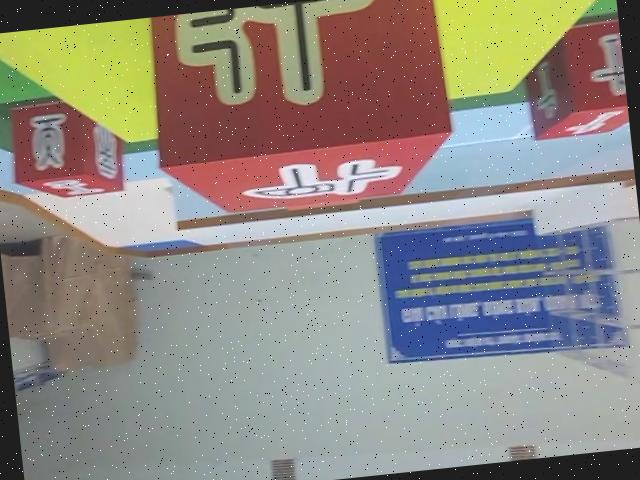R2 Fake: (3, 94, 127, 206)
R2 Real: (139, 0, 461, 222), (518, 19, 631, 145)
